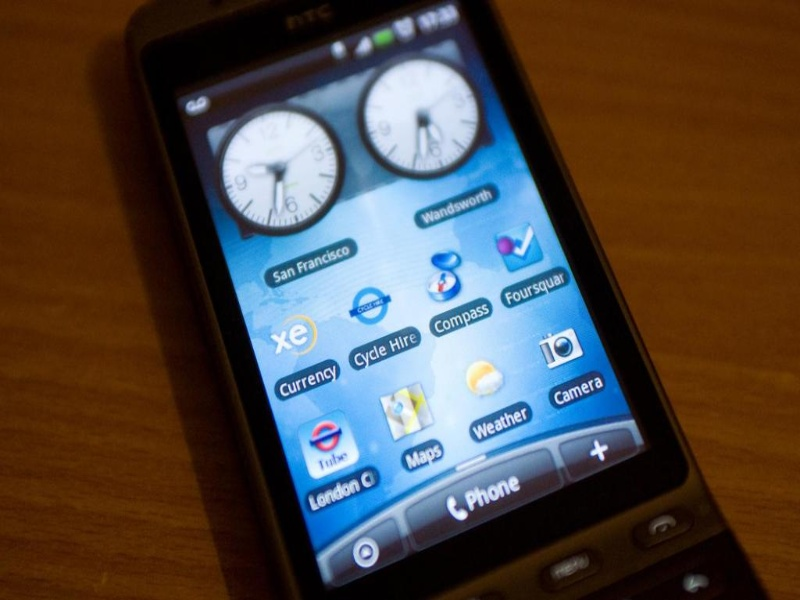cellphone: (114, 5, 757, 600)
